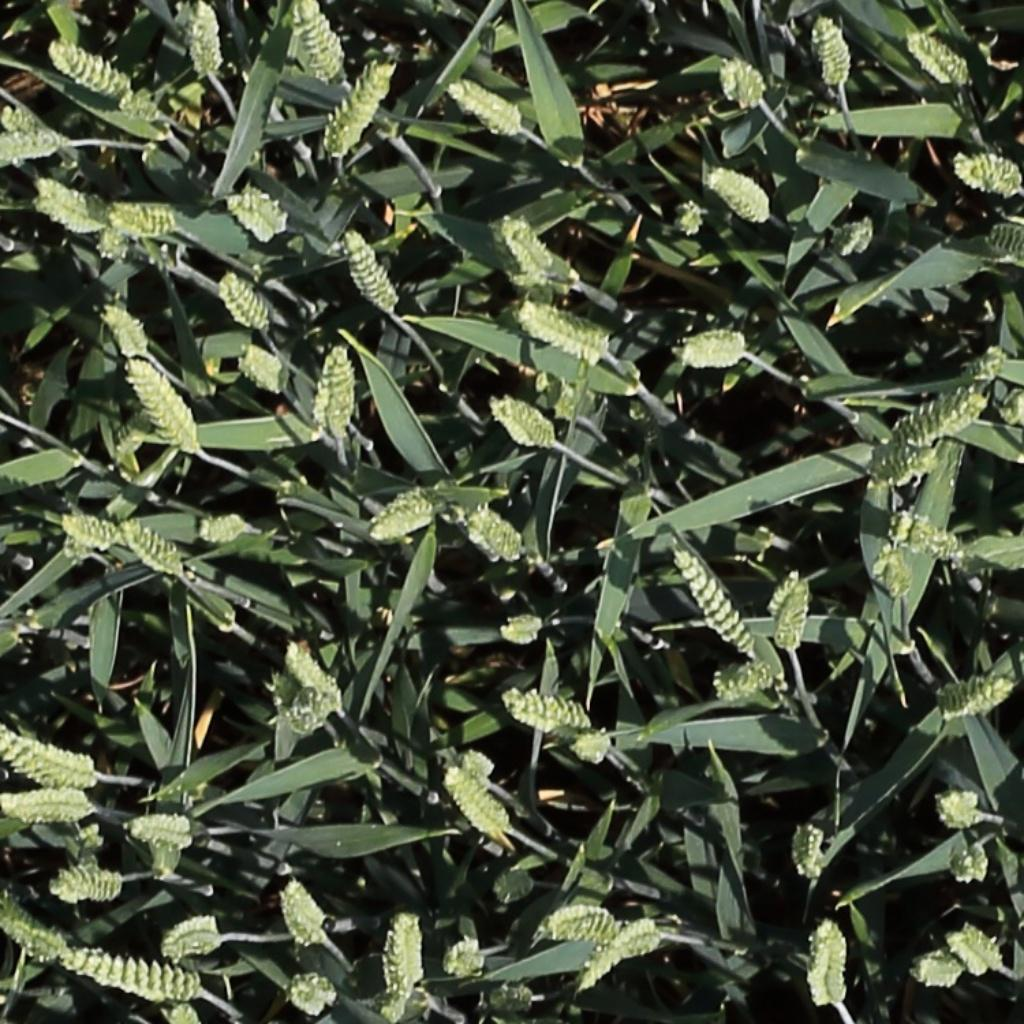0-0: (671, 543, 763, 662), (32, 193, 163, 261), (125, 354, 202, 456), (53, 948, 203, 999), (323, 58, 397, 159), (494, 210, 574, 286), (577, 921, 663, 991), (339, 223, 401, 318), (865, 392, 989, 439), (0, 720, 87, 786), (0, 888, 74, 964), (442, 765, 512, 841), (47, 40, 132, 98), (282, 638, 345, 711), (292, 0, 345, 86), (520, 303, 607, 353), (447, 79, 524, 132), (53, 846, 130, 897), (120, 520, 187, 578), (311, 339, 353, 431), (263, 687, 351, 730), (465, 499, 525, 562), (708, 163, 774, 219), (675, 327, 759, 371), (368, 489, 440, 540), (279, 877, 327, 953), (907, 30, 972, 86), (218, 266, 271, 334), (490, 397, 557, 449), (894, 513, 969, 558), (99, 299, 150, 363), (387, 909, 419, 1011), (776, 568, 818, 641), (815, 916, 847, 1010), (156, 914, 227, 956), (505, 697, 595, 730), (1, 787, 91, 820), (815, 9, 851, 91), (34, 174, 106, 215), (951, 922, 1004, 976), (969, 211, 1024, 263), (958, 338, 1007, 396), (940, 679, 1011, 719), (445, 737, 512, 779), (869, 543, 918, 598), (722, 53, 764, 117), (544, 906, 617, 942), (940, 842, 998, 886), (236, 342, 288, 391), (714, 664, 778, 703), (953, 154, 1021, 189), (0, 135, 65, 171), (871, 451, 944, 483), (225, 193, 283, 233), (191, 1, 219, 83), (534, 378, 588, 420), (58, 514, 128, 546), (828, 212, 876, 258), (474, 985, 547, 1013), (797, 817, 824, 890), (497, 608, 547, 647), (570, 729, 619, 766), (443, 939, 486, 977), (936, 794, 981, 830), (110, 206, 177, 230), (288, 980, 335, 1013), (0, 93, 36, 131), (125, 823, 197, 841), (677, 195, 708, 236), (199, 517, 249, 540), (914, 959, 963, 981), (1004, 390, 1024, 435), (169, 1000, 199, 1024)
